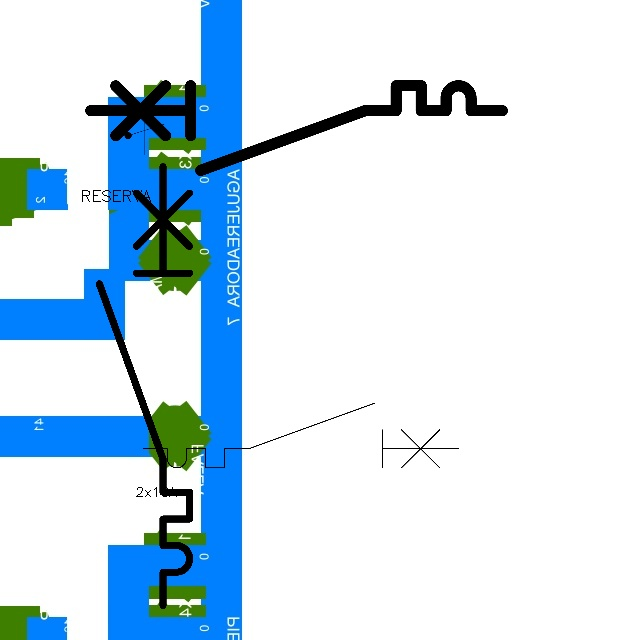interruptor_termomagnetico: (88, 155, 201, 616), (80, 75, 513, 181), (135, 395, 467, 476)
